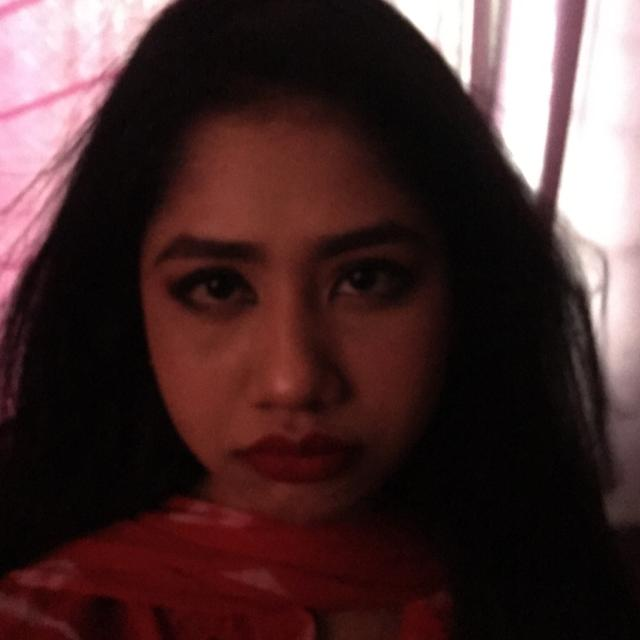Sad: (80, 75, 518, 540)
